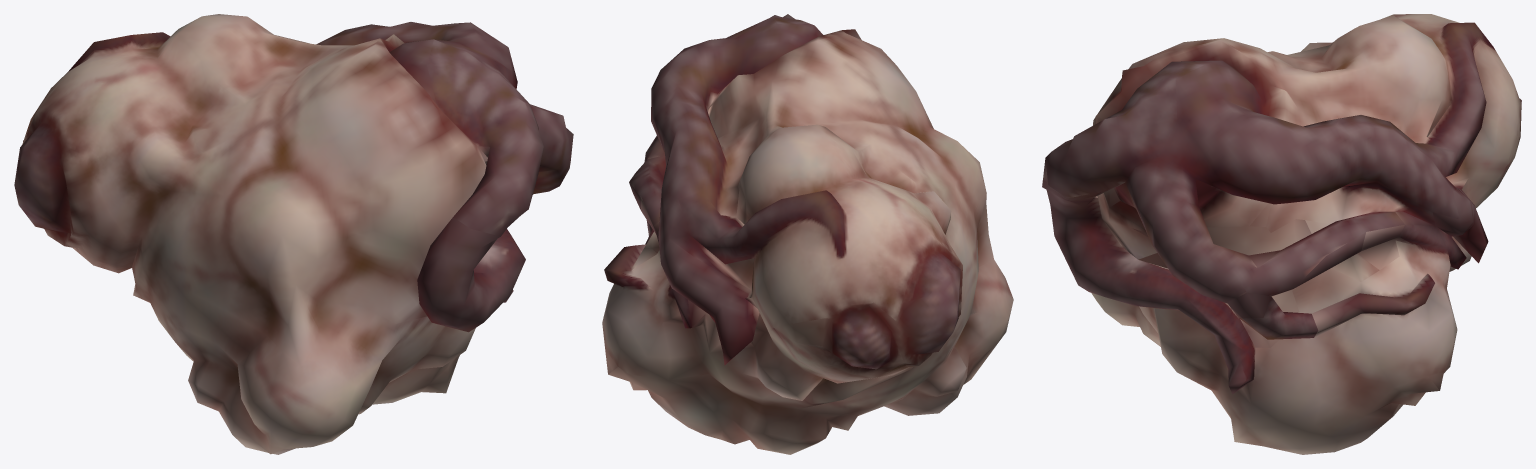
Rendered from banshira_growth_05.fbx.
3 renders of one model, left to right at view 1: azimuth 30°, elevation 25°; view 2: azimuth 150°, elevation 25°; view 3: azimuth 270°, elevation 25°, orthographic. The views are drawn at different scales.
Parts seen in each view (by area): view 1: Banshira_Growth_05; view 2: Banshira_Growth_05; view 3: Banshira_Growth_05.
Boxes of the visible parts, left/top/right/bottom form: Banshira_Growth_05: left=14, top=14, right=573, bottom=454; Banshira_Growth_05: left=602, top=14, right=1013, bottom=454; Banshira_Growth_05: left=1042, top=14, right=1521, bottom=454.
Bounding box in the file's own units: 363 × 317 × 357.
